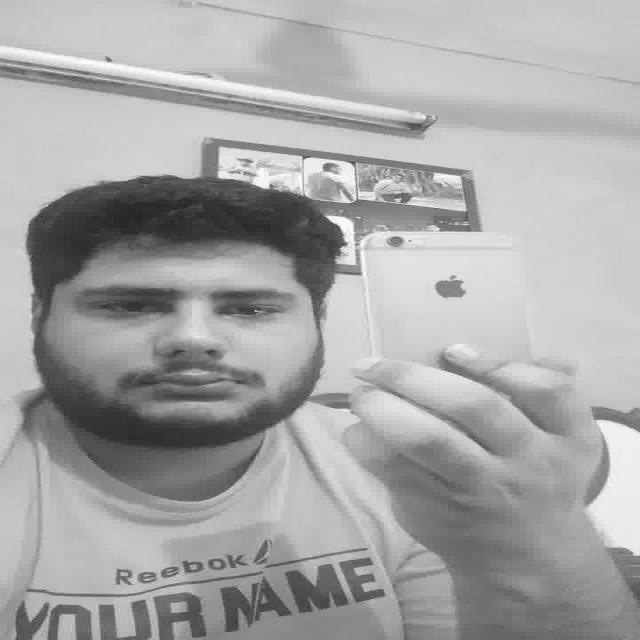fake: (359, 216, 533, 366)
real: (38, 238, 321, 456), (72, 283, 299, 327)
